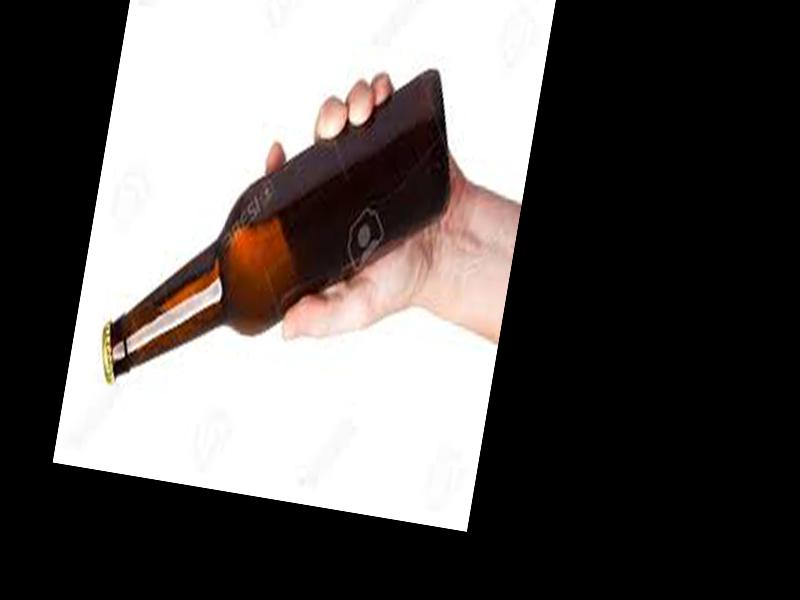Beer: (95, 26, 468, 435)
